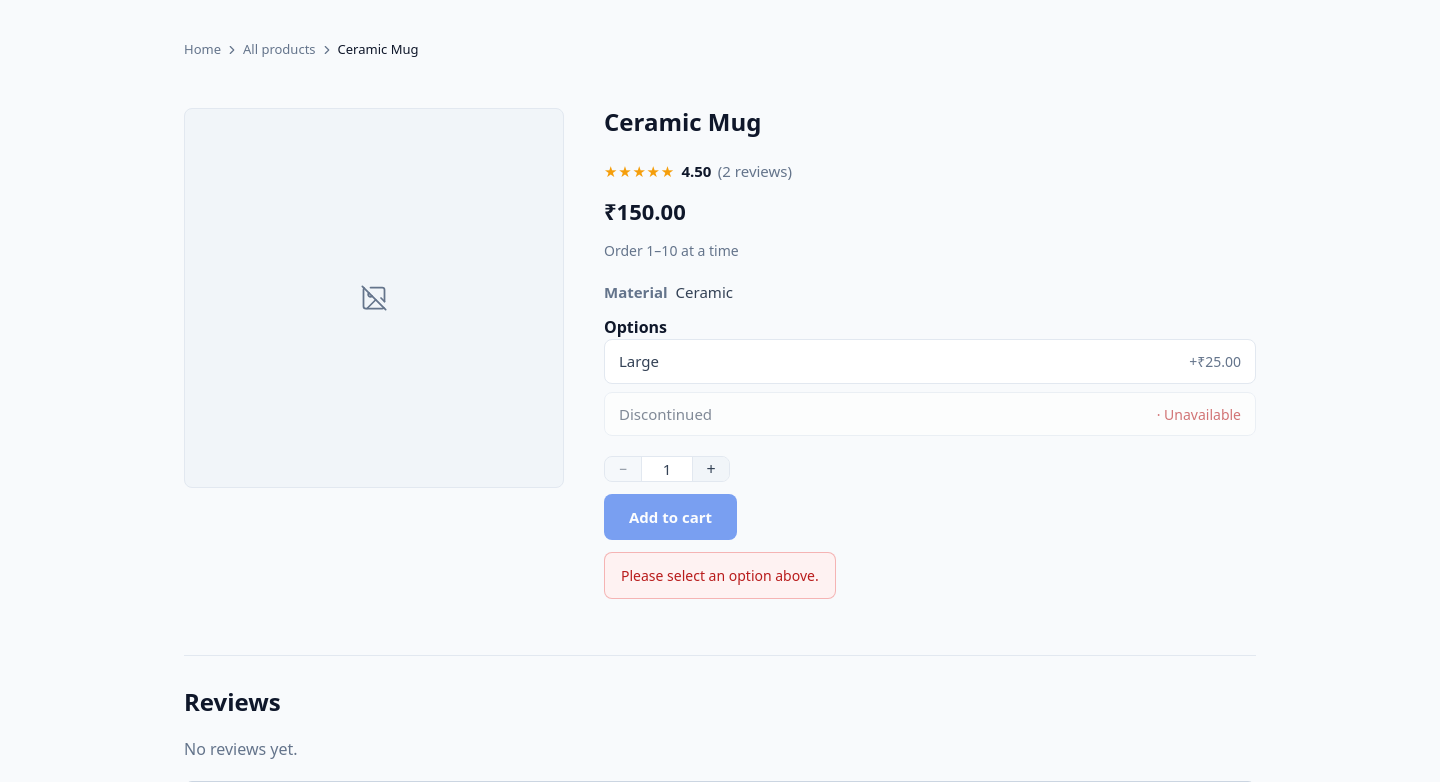
ProductDetailPage › adds to cart with the selected variant, quantity, and customization payload
Expected: the heading "Ceramic Mug" is shown, [604, 104, 762, 138]
Click the radio button labelled "Large +₹25.00" at [639, 361], box [604, 339, 1256, 384]
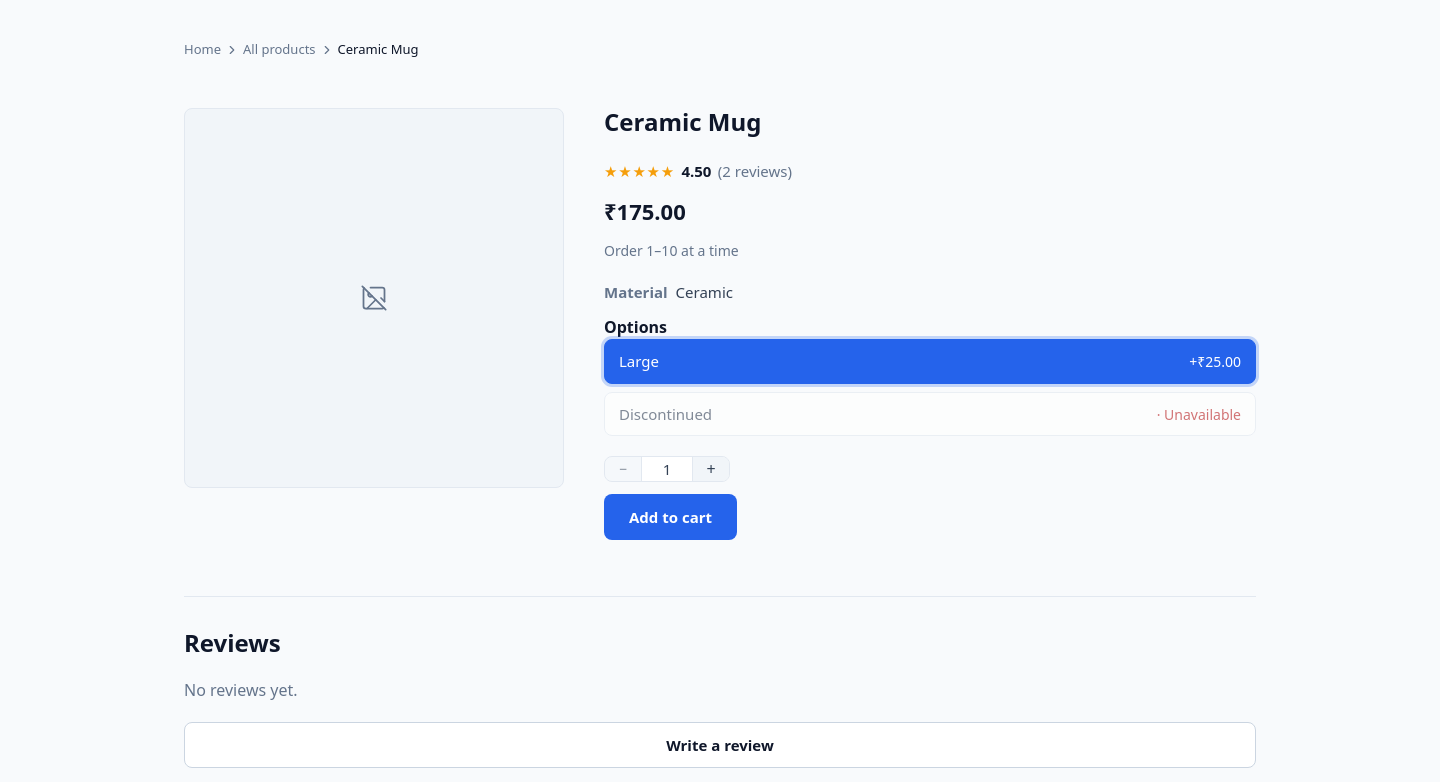
Click the button named "increase" at [711, 469], box [693, 457, 729, 481]
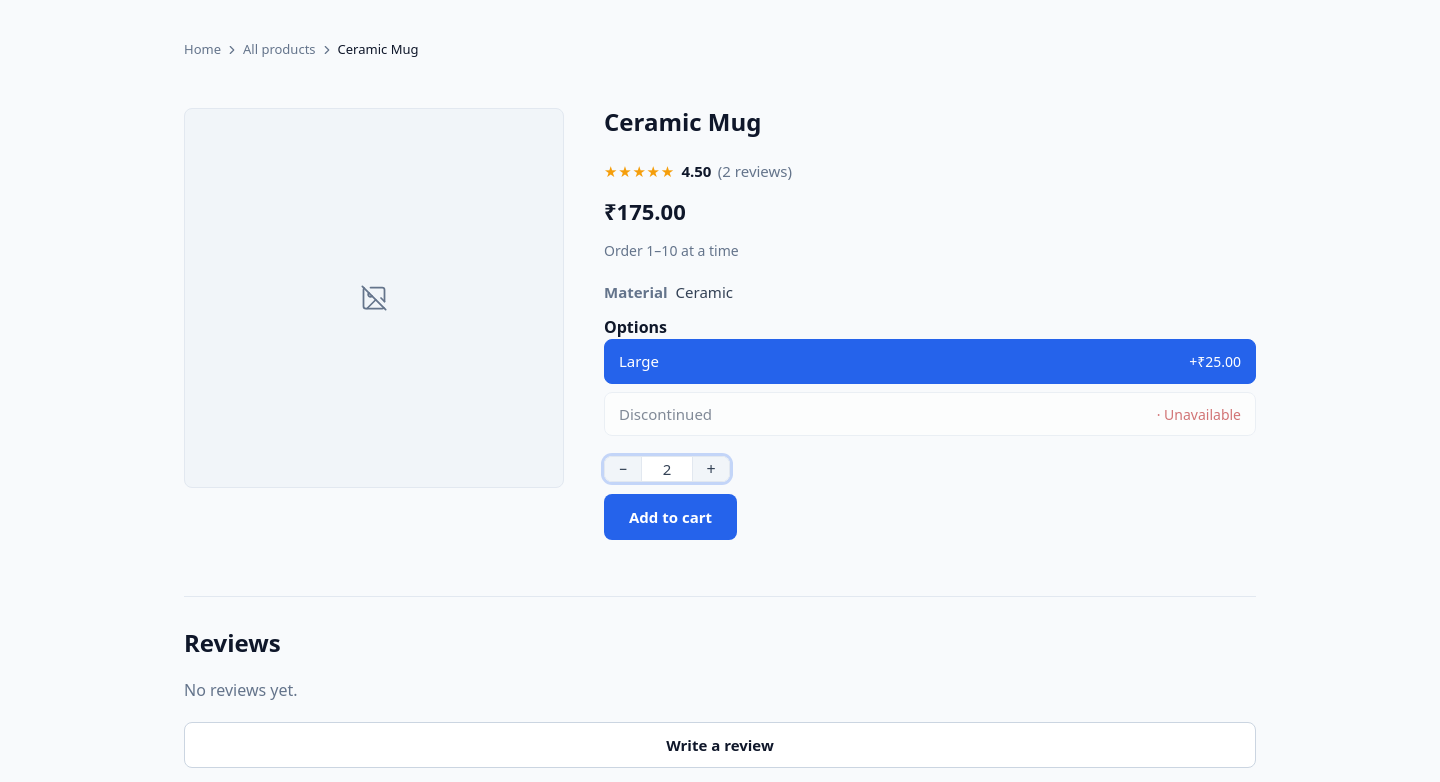
Click the button "Add to cart" at [670, 517], box [604, 494, 737, 540]
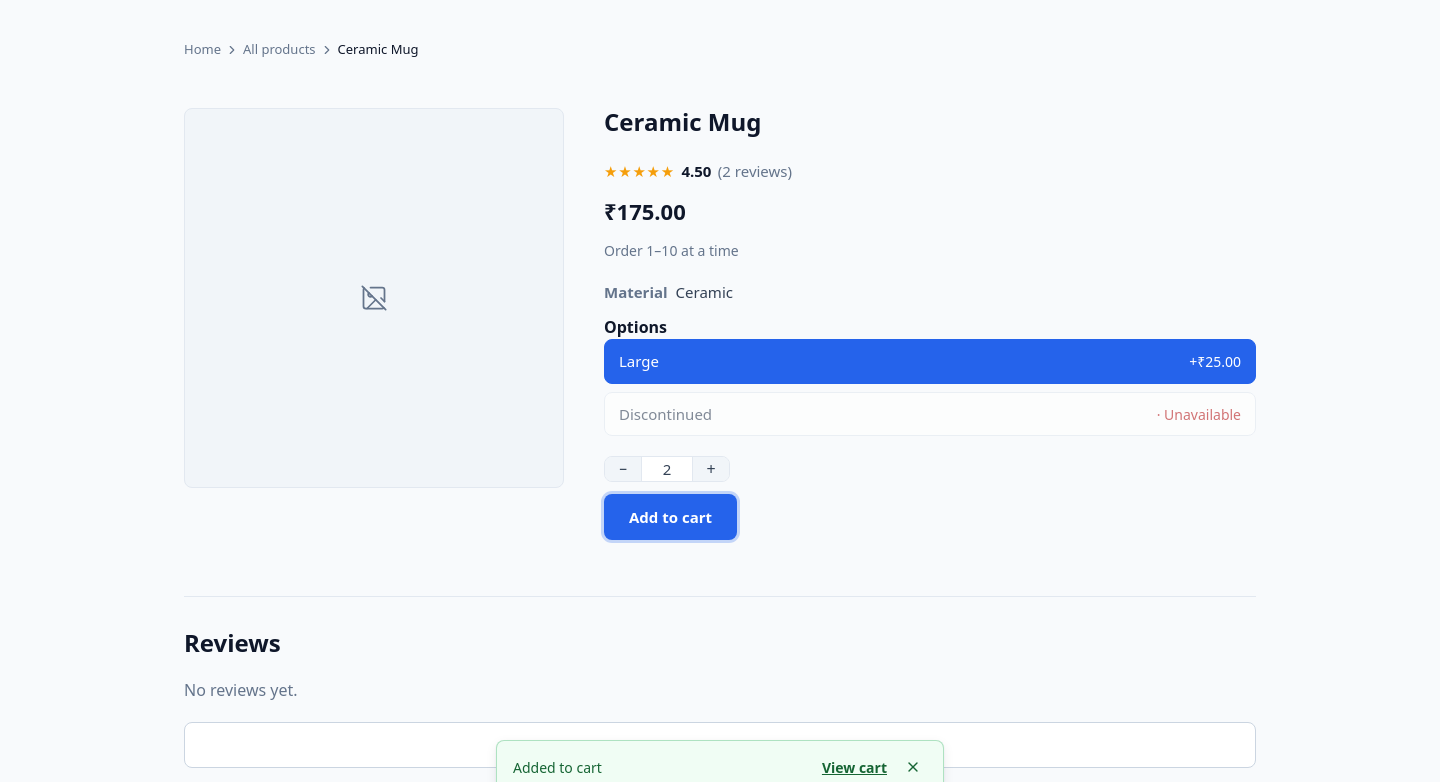
Result: the text "Added to cart" is shown at [513, 758, 602, 776]
